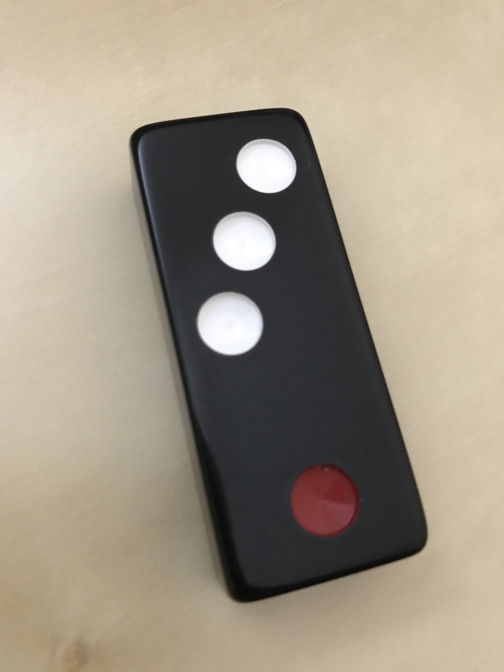goose: (130, 109, 429, 603)
